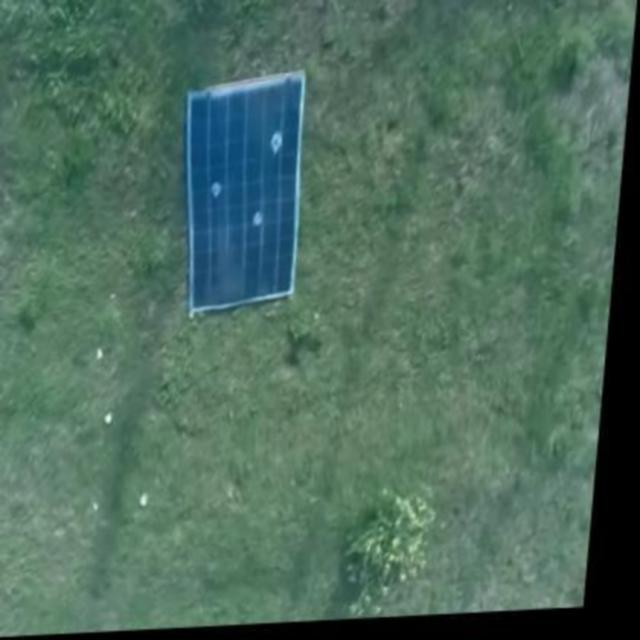soiled: (184, 69, 300, 312)
